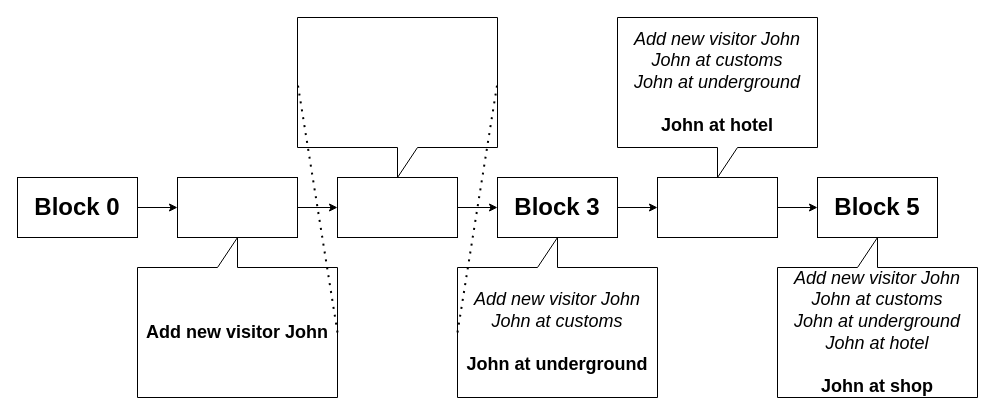
This 995x415 diagram has some shape labels left out. Each missing label, with the centre of its shape:
"Add new visitor John John at customs" goes at [397,97].
"Block 1" goes at [237,207].
"Block 2" goes at [397,207].
"Block 4" goes at [717,207].
